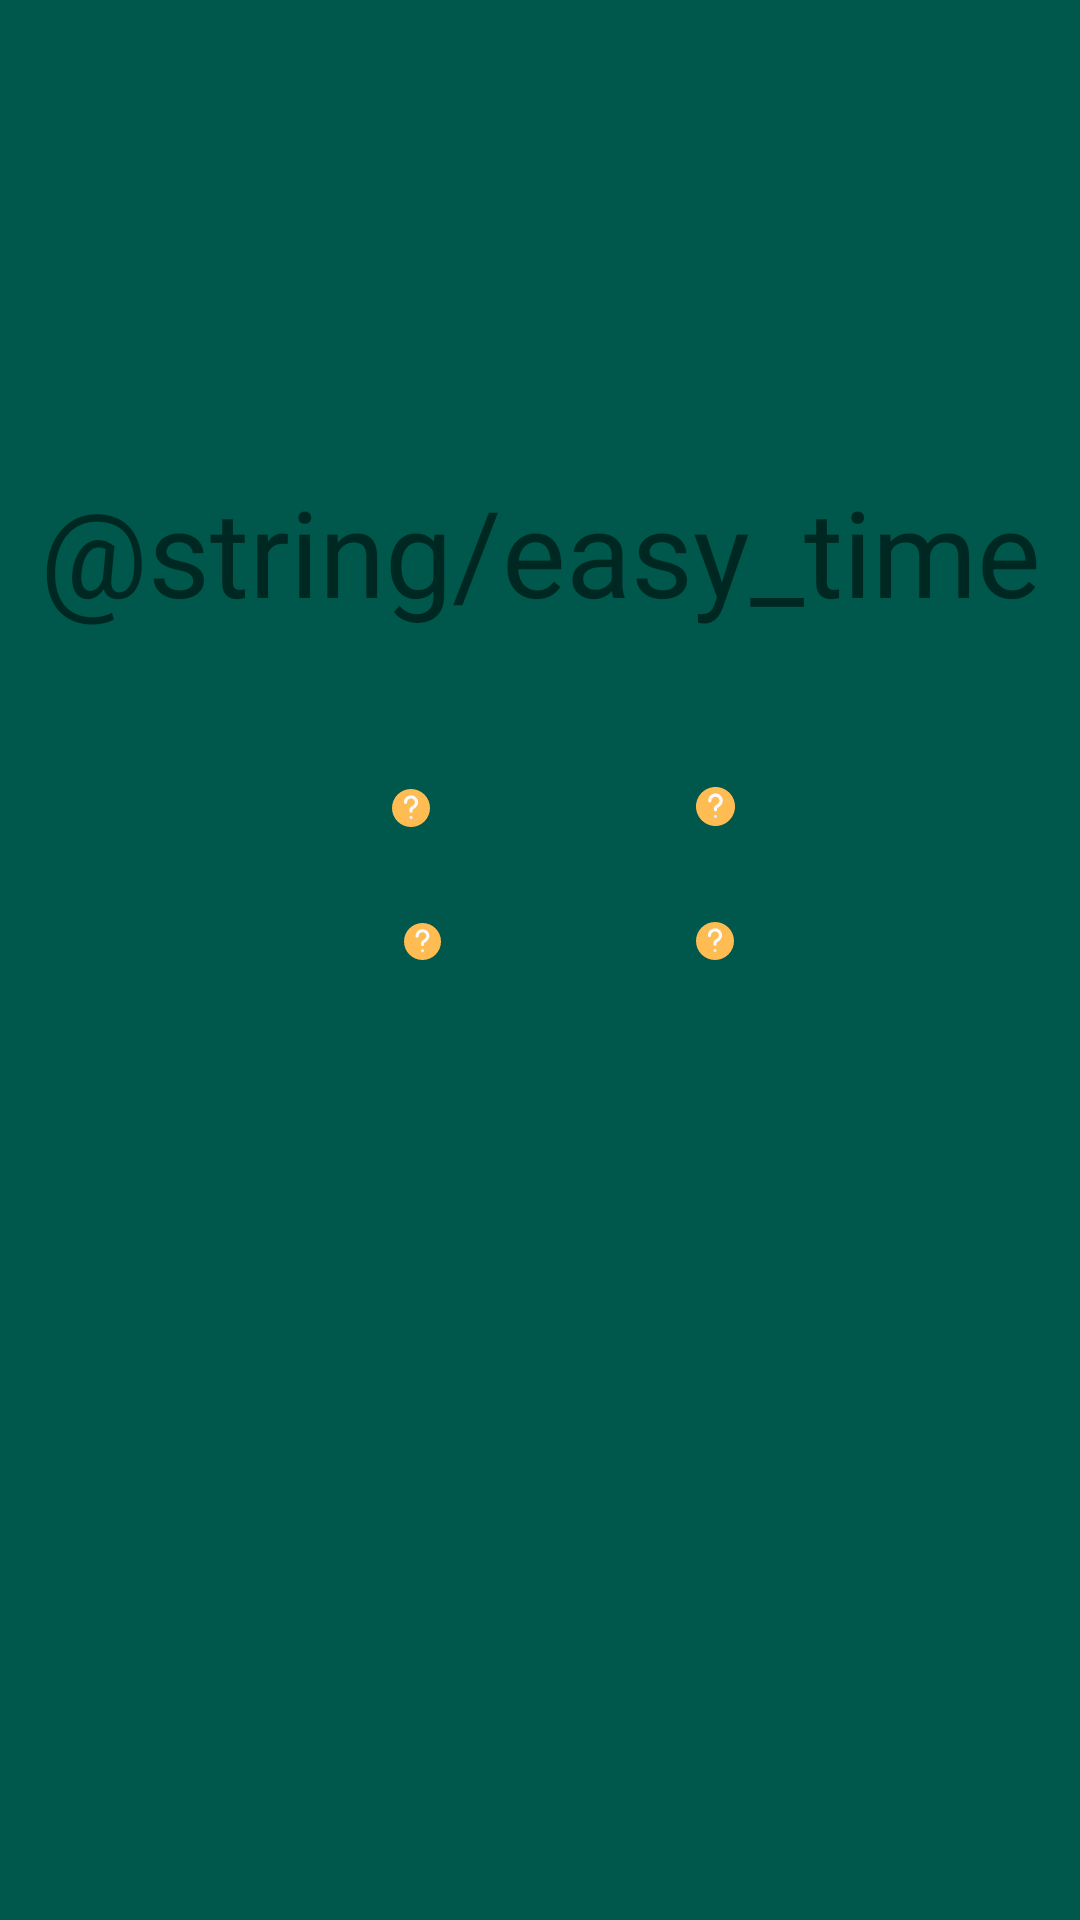

Screen size 1080px x 1920px. Icon name, then its center in pixels as (x=x, y=y):
question: (x=715, y=806), (x=411, y=808), (x=715, y=941), (x=422, y=941)
